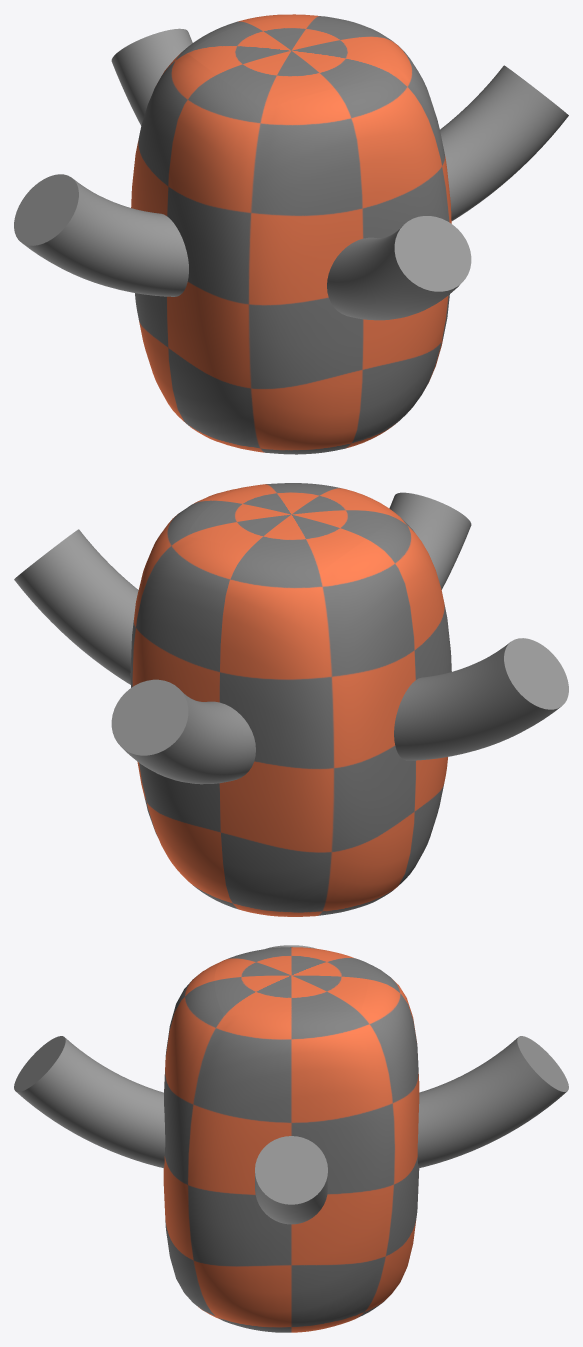
File: Body(Oblong)+Colour(More_Orange)+Pattern(Checkered)+Arm_Angle(Bent_Up).fbx
3 views of the same model, one above another, from view 1: azimuth 30°, elevation 25°; view 2: azimuth 150°, elevation 25°; view 3: azimuth 270°, elevation 25° (orthographic). The views are drawn at different scales.
Visible parts, largest first — view 1: Body(Oblong)+Colour(More_Orange)+Pattern(Checkered)+Arm_Angl (×5); view 2: Body(Oblong)+Colour(More_Orange)+Pattern(Checkered)+Arm_Angl (×5); view 3: Body(Oblong)+Colour(More_Orange)+Pattern(Checkered)+Arm_Angl (×4).
Part boxes in pixels (x1,y1,x2,y2): Body(Oblong)+Colour(More_Orange)+Pattern(Checkered)+Arm_Angl (×5): (14, 14, 568, 454); Body(Oblong)+Colour(More_Orange)+Pattern(Checkered)+Arm_Angl (×5): (14, 483, 568, 916); Body(Oblong)+Colour(More_Orange)+Pattern(Checkered)+Arm_Angl (×4): (14, 947, 568, 1332).
Bounding box in the file's own units: 60.67 × 40 × 60.67.
Materials: 2 (1 with a texture image).
